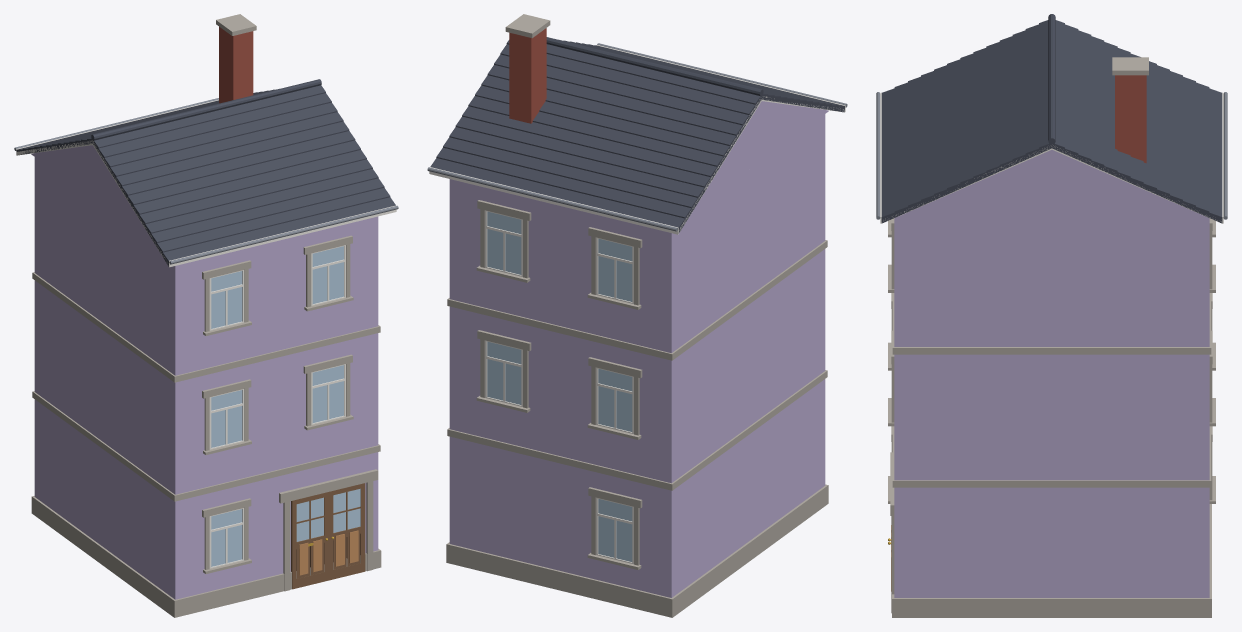
The model's file is townhouse.glb.
3 renders of one model, left to right at view 1: azimuth 30°, elevation 25°; view 2: azimuth 150°, elevation 25°; view 3: azimuth 270°, elevation 25°, orthographic. The views are drawn at different scales.
Visible parts, largest first — view 1: townhouse; view 2: townhouse; view 3: townhouse.
Boxes of the visible parts, bbox=[...] form: townhouse: bbox=[14, 14, 398, 617]; townhouse: bbox=[427, 14, 847, 617]; townhouse: bbox=[876, 14, 1227, 617].
Bounding box in the file's own units: 5.6 × 11.2 × 6.69.
